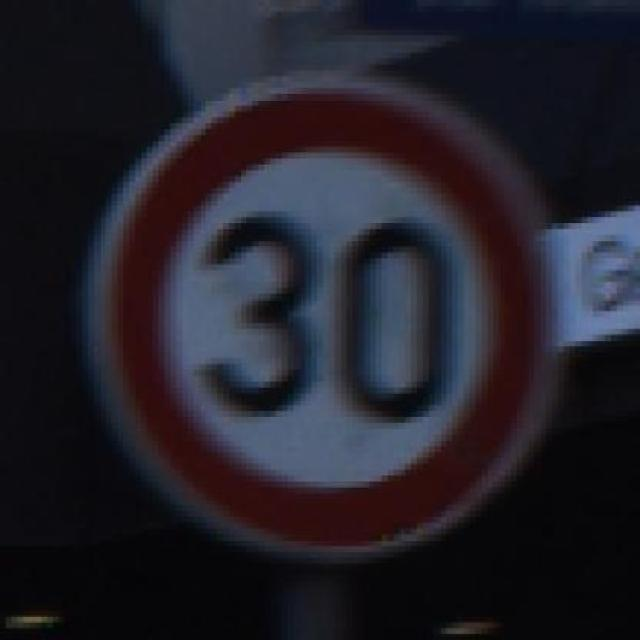Speed Limit 30 KMPh: (41, 53, 616, 570)
